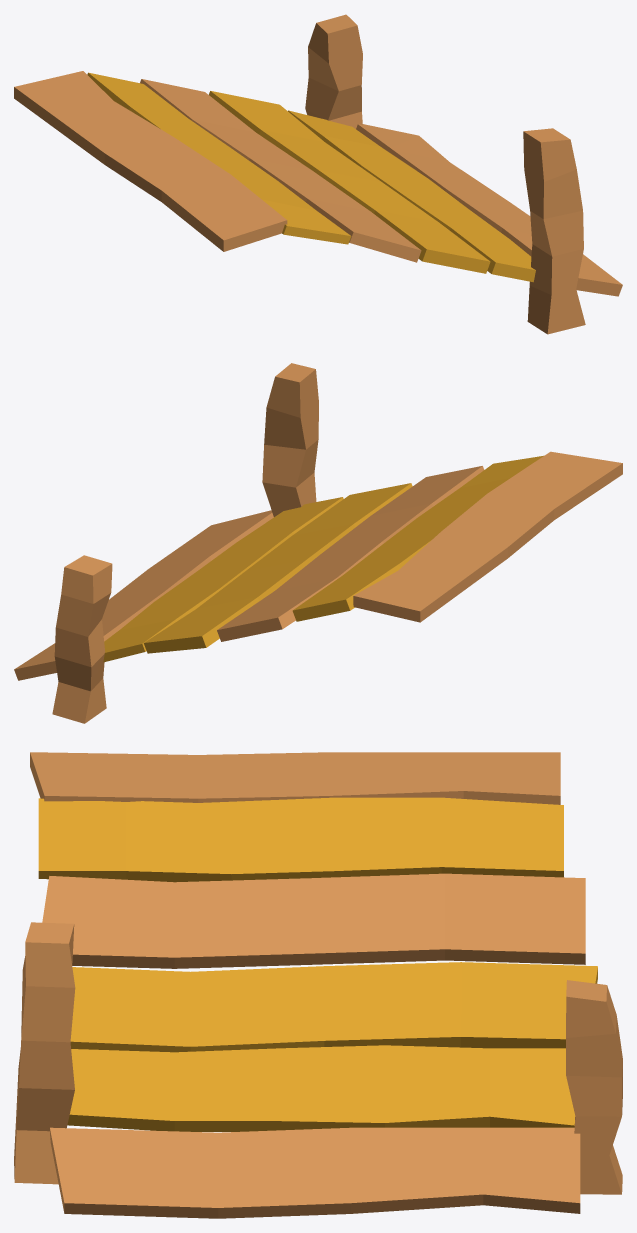
File: rampa.fbx
The picture shows the model from 3 angles, top to bottom: view 1: azimuth 30°, elevation 25°; view 2: azimuth 150°, elevation 25°; view 3: azimuth 270°, elevation 25°; orthographic projection. The views are drawn at different scales.
Parts seen in each view (by area): view 1: Object_2; view 2: Object_2; view 3: Object_2.
Part boxes in pixels (x1,y1,x2,y2): Object_2: (14, 14, 622, 334); Object_2: (14, 363, 622, 723); Object_2: (14, 752, 622, 1218).
Size of the model in its own units: 1205 by 546 by 1205.
